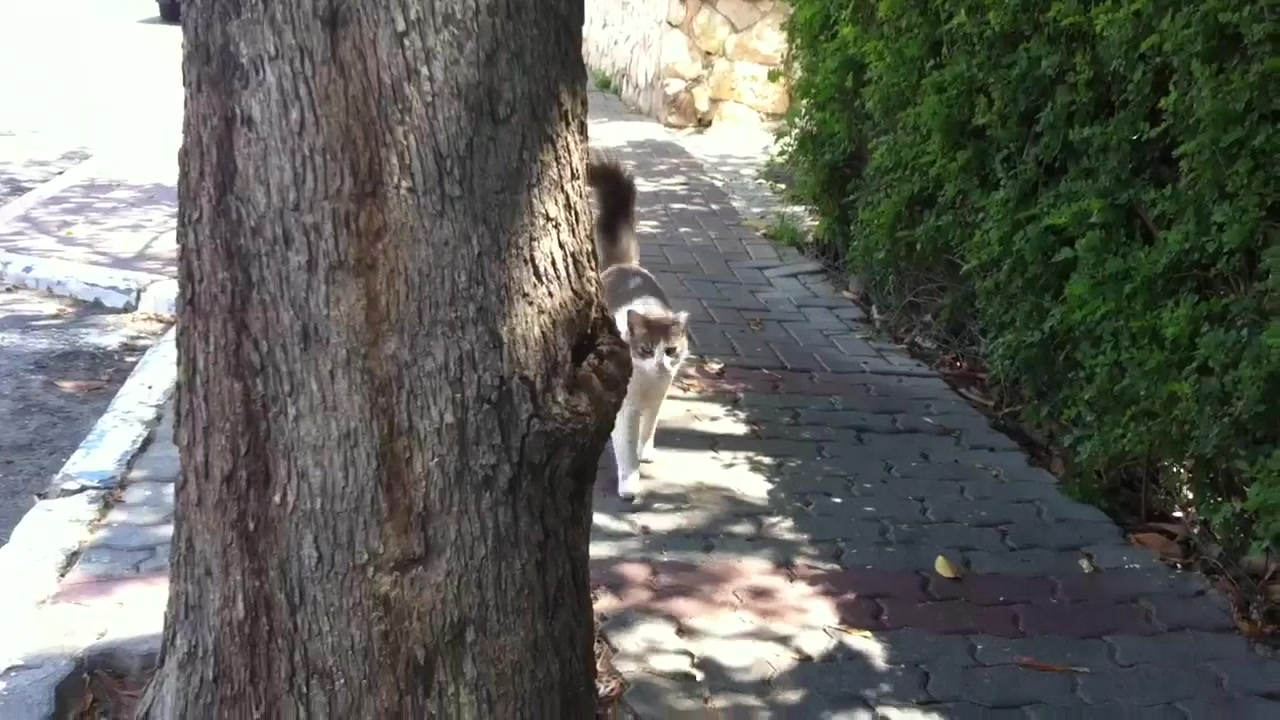cat: (586, 163, 692, 500)
